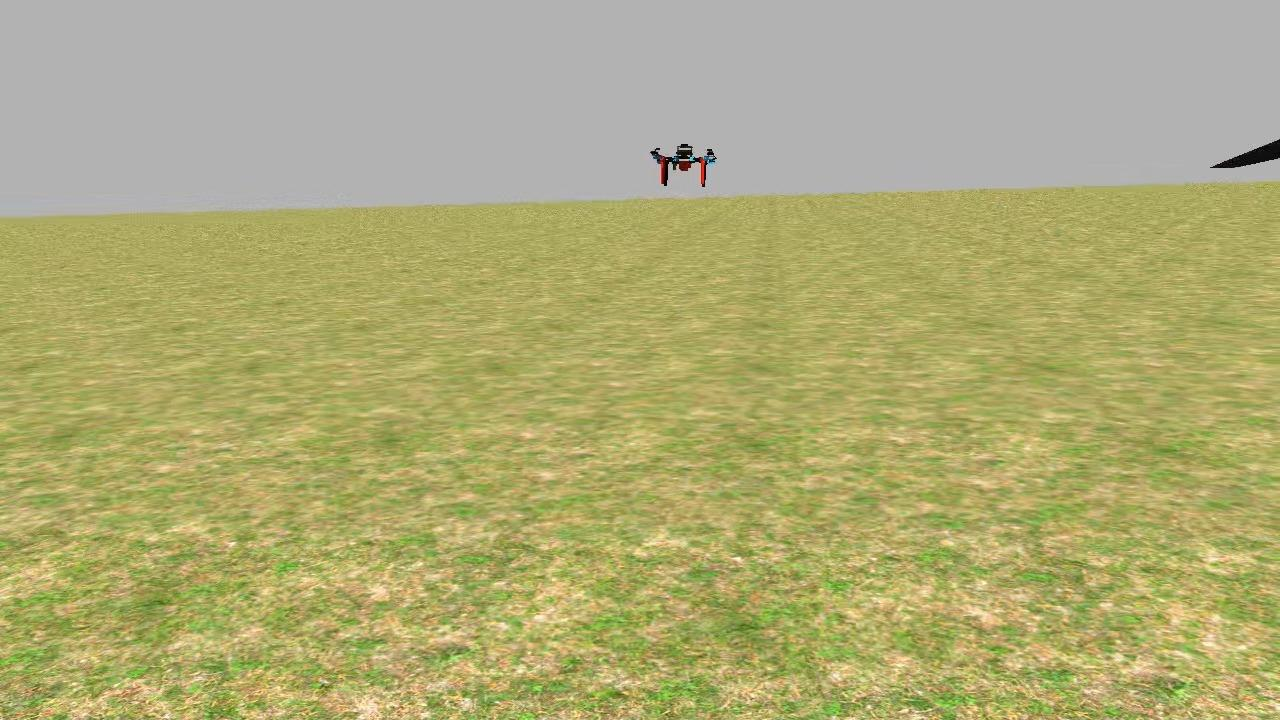UAV: (638, 137, 723, 190)
